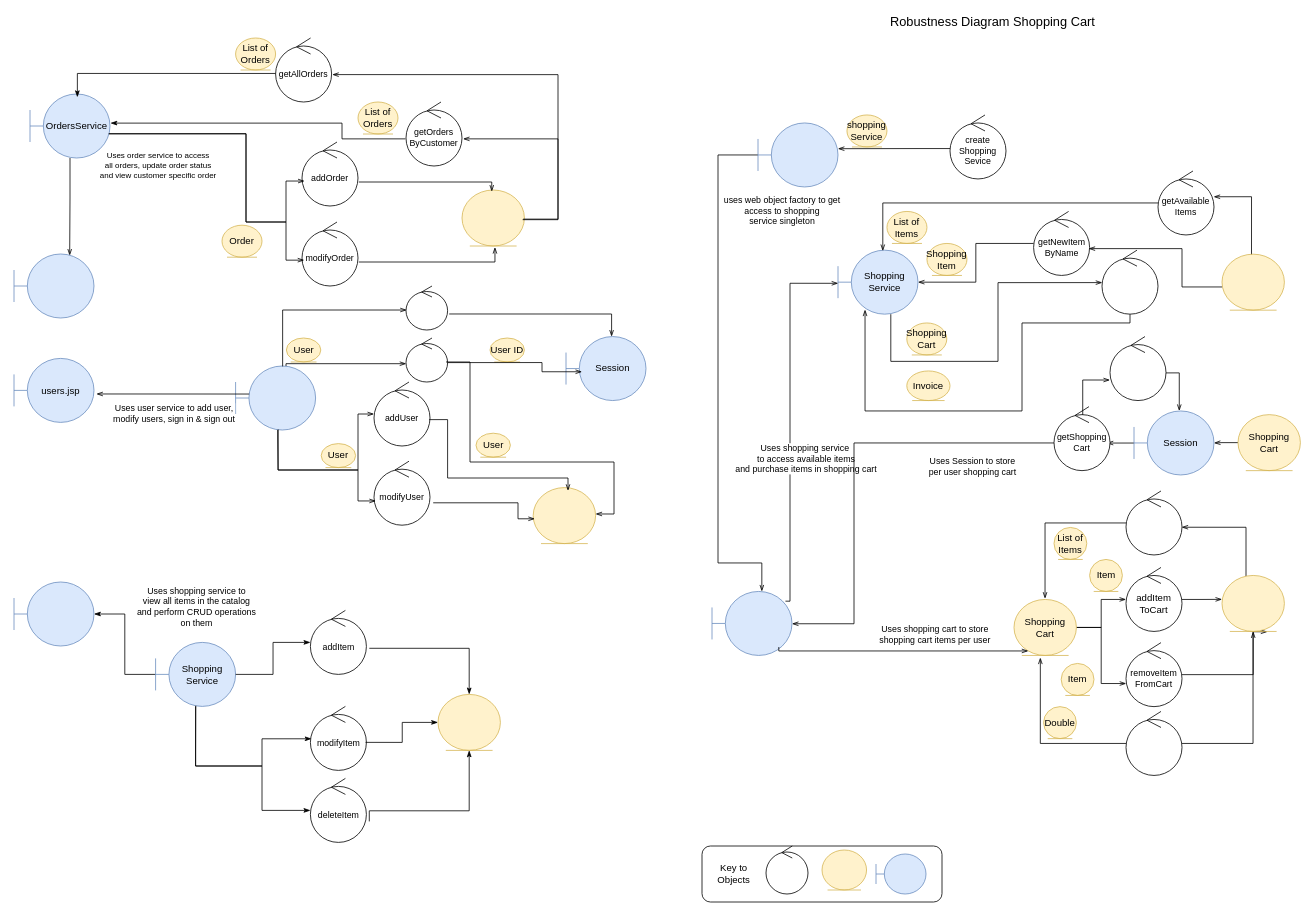
This 1314x916 diagram has some shape labels left out. The box of each missing label's shape, as (x1, y1, x2, y2) in pixels:
Boundary Object: (875, 853, 926, 894)
Catalog Table: (437, 694, 500, 750)
catalog.jsp: (13, 581, 94, 646)
Control Object: (765, 845, 808, 894)
create Shopping Cart: (1109, 336, 1166, 401)
Entity Object: (821, 849, 867, 890)
getShopping Cart Items: (1125, 490, 1182, 555)
getTotal: (1125, 711, 1182, 775)
home.jsp: (711, 591, 792, 655)
ItemMap: (1221, 253, 1284, 310)
login: (405, 337, 448, 382)
logout: (405, 285, 448, 330)
Orders Table: (461, 189, 524, 246)
orders.jsp: (13, 253, 94, 318)
purchase Items: (1101, 249, 1158, 314)
Shopping Cart Items: (1221, 575, 1284, 631)
User Table: (532, 487, 596, 544)
UserService: (235, 365, 316, 430)
WebObject Factory: (757, 122, 838, 187)
